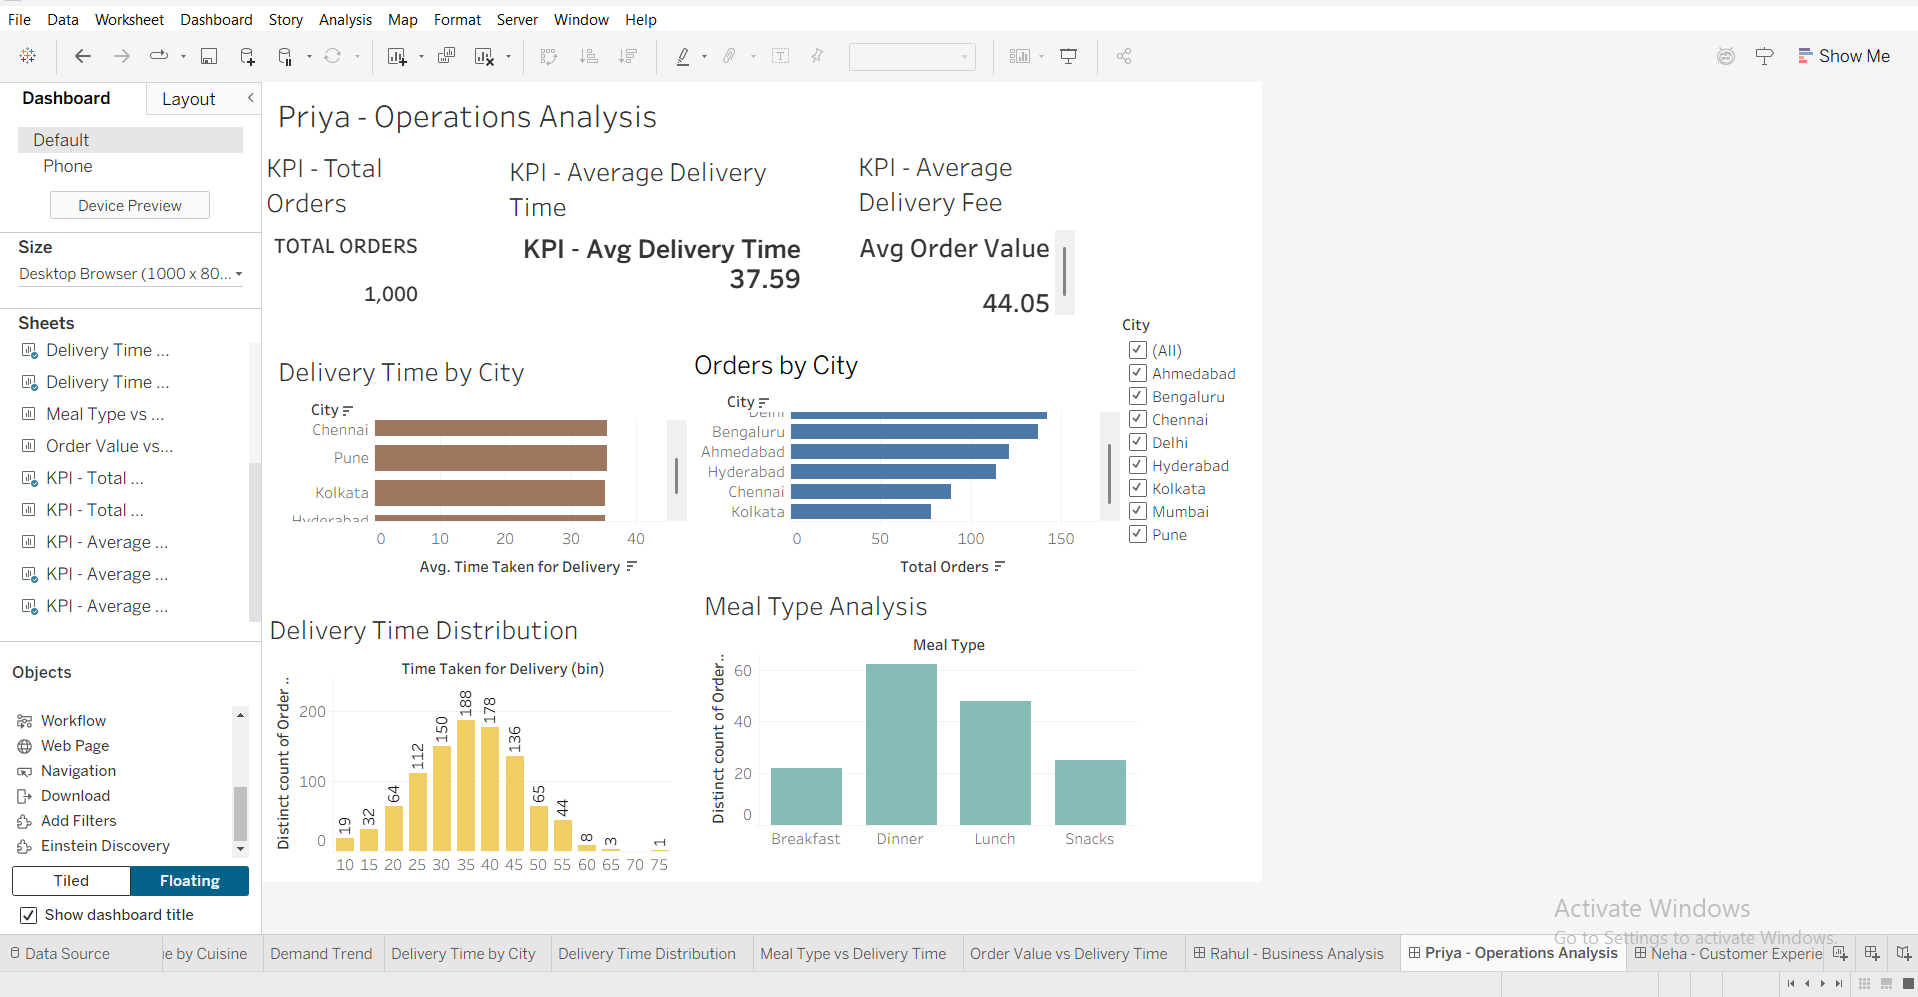

The page's visual inventory and layout, read from the dashboard file:
{"tool":"tableau","page":{"name":"Priya - Operations Analysis","canvas":[1000,800],"ordinal":1},"visuals":[{"type":"title","box":[8,8,984,50]},{"type":"worksheet","title":"KPI - Average Delivery Fee","mark":"Automatic","box":[592,63,223,170]},{"type":"worksheet","title":"KPI - Total Orders","mark":"Automatic","box":[0,64,273,182]},{"type":"worksheet","title":"KPI - Average Delivery Time","mark":"Automatic","box":[243,68,327,175]},{"type":"filter","title":"Delivery Time by City","param":"[federated.0koscx004ilo0c1ezlsu40xq7tde].[none:City:nk]","box":[860,232,134,263]},{"type":"worksheet","title":"Orders by City","mark":"Automatic","rows":["City"],"cols":["Calculation_1228207014764545"],"box":[428,263,430,239]},{"type":"worksheet","title":"Delivery Time by City","mark":"Automatic","rows":["City"],"cols":["Time Taken for Delivery"],"box":[12,268,413,234]},{"type":"worksheet","title":"Meal Type Analysis","mark":"Automatic","rows":["Order ID"],"cols":["Meal Type"],"box":[438,502,438,266]},{"type":"worksheet","title":"Delivery Time Distribution","mark":"Automatic","rows":["Order ID"],"cols":["Time Taken for Delivery (bin)"],"box":[3,526,407,268]}]}

Visuals, with their boxes on the page's 1000x800 design canvas (x1, y1, x2, y2). These are canvas units, not pixel positions in the 1918x997 screenshot, which may show the page scaled, cropped or inside an application window:
title: region(8, 8, 992, 58)
"KPI - Average Delivery Fee" worksheet: region(592, 63, 815, 233)
"KPI - Total Orders" worksheet: region(0, 64, 273, 246)
"KPI - Average Delivery Time" worksheet: region(243, 68, 570, 243)
"Delivery Time by City" filter: region(860, 232, 994, 495)
"Orders by City" worksheet: region(428, 263, 858, 502)
"Delivery Time by City" worksheet: region(12, 268, 425, 502)
"Meal Type Analysis" worksheet: region(438, 502, 876, 768)
"Delivery Time Distribution" worksheet: region(3, 526, 410, 794)
